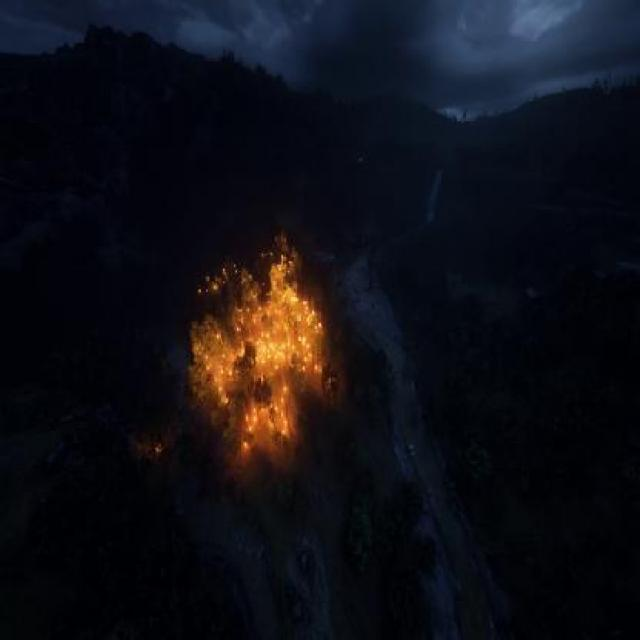Fire: (180, 218, 354, 452)
